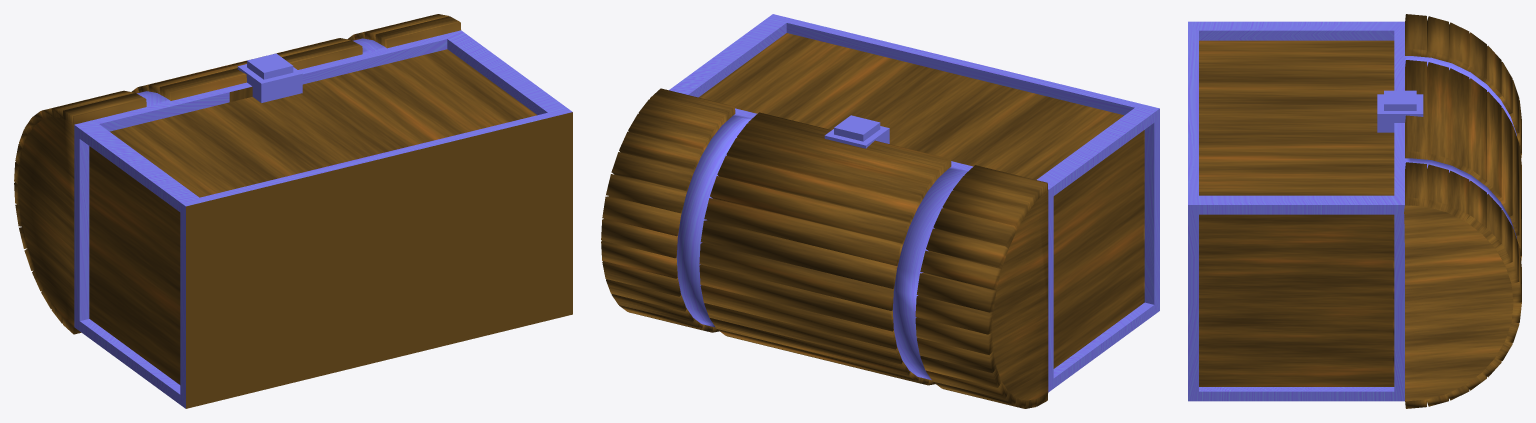
Rendered from chest.fbx.
3 views of the same model, side by side, from view 1: azimuth 30°, elevation 25°; view 2: azimuth 150°, elevation 25°; view 3: azimuth 270°, elevation 25° (orthographic). The views are drawn at different scales.
Visible parts, largest first — view 1: Cube; view 2: Cube; view 3: Cube.
Boxes of the visible parts, x1=… form: Cube: x1=14, y1=14, x2=572, y2=408; Cube: x1=601, y1=14, x2=1159, y2=408; Cube: x1=1188, y1=14, x2=1521, y2=408.
Bounding box in the file's own units: 400 × 224 × 308.
